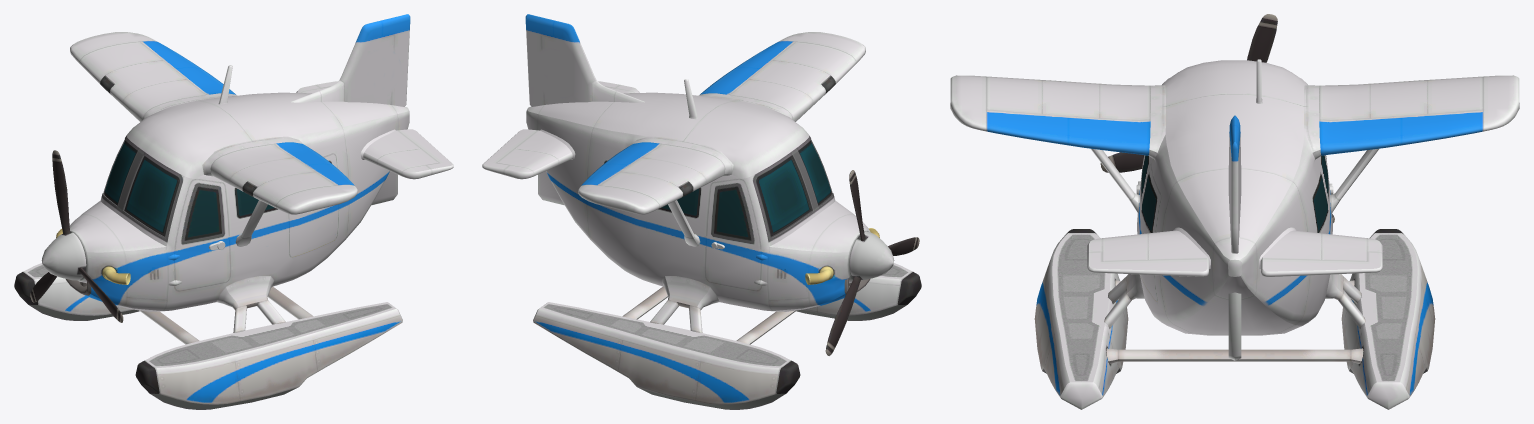
File: aircraft.gltf
3 renders of one model, left to right at view 1: azimuth 30°, elevation 25°; view 2: azimuth 150°, elevation 25°; view 3: azimuth 270°, elevation 25°, orthographic. The views are drawn at different scales.
Parts seen in each view (by area): view 1: plane; view 2: plane; view 3: plane.
Boxes of the visible parts, x1,y1,x2,y2 form: plane: (14, 14, 453, 409); plane: (482, 14, 921, 409); plane: (950, 14, 1519, 409).
Size of the model in its own units: 1 by 0.7562 by 1.06.
1 material, 1 textured.
